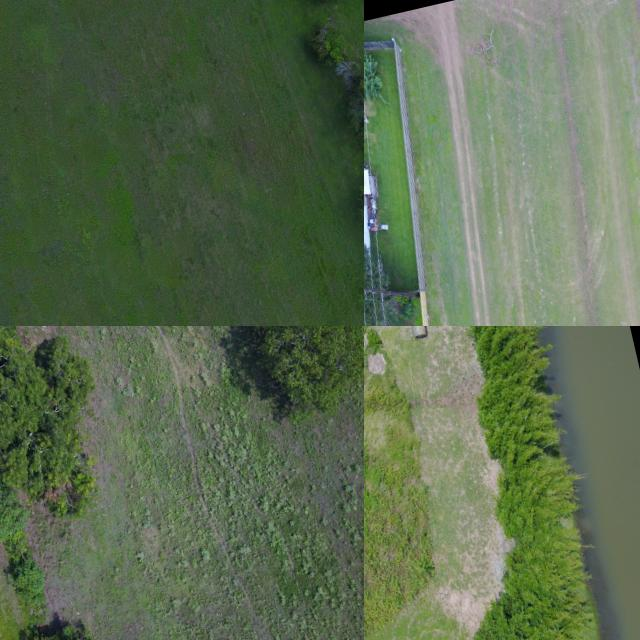fire: (540, 326, 640, 640)
